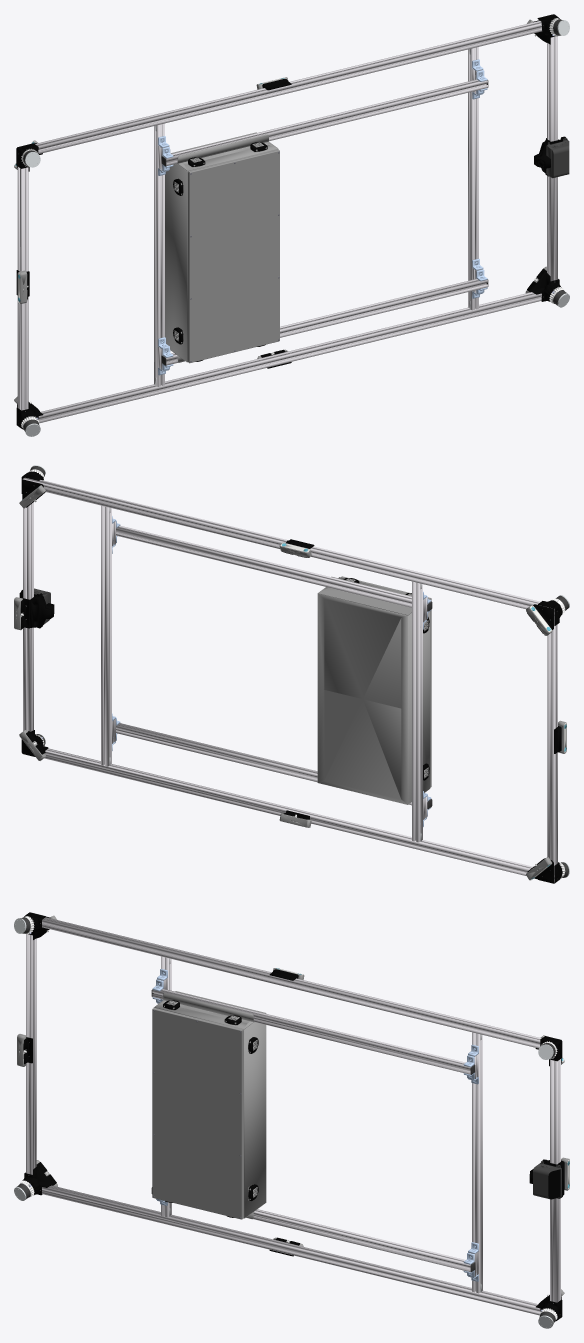
File: rack.obj
3 views of the same model, one above another, from view 1: azimuth 30°, elevation 25°; view 2: azimuth 150°, elevation 25°; view 3: azimuth 330°, elevation 25° (orthographic).
Parts seen in each view (by area): view 1: Deckel, Body1.045, Body1.040, Body2.032, Body1.065, Body1.053, Body1.018, Body1.056, Body1.055, Body1.027, Body60, Body57 (+1 smaller); view 2: Body2.032, Body1.045, Body1.040, Body1.065, Body1.056, Body1.055, Body1.018, Body1.053, Body1.027, Body60, Body2.033; view 3: Deckel, Body1.045, Body1.040, Body2.032, Body1.065, Body1.053, Body1.018, Body1.055, Body1.027, Top, Body60, Body57.
Boxes of the visible parts, x1,y1,x2,y2 form: Deckel: (187,149,279,363); Body1.045: (35,21,543,153); Body1.040: (38,292,541,423); Body2.032: (165,164,187,361); Body1.065: (165,79,487,166); Body1.053: (165,278,487,365); Body1.018: (17,166,28,411); Body1.056: (154,123,164,386); Body1.055: (468,47,478,310); Body1.027: (547,36,557,281); Body60: (170,132,278,170); Body57: (177,134,268,163); Body2.032: (317,593,430,804); Body1.045: (23,477,554,615); Body1.040: (44,748,554,882); Body1.065: (116,525,427,607); Body1.056: (412,581,422,842); Body1.055: (101,505,111,766); Body1.018: (547,616,557,874); Body1.053: (116,723,427,805); Body1.027: (23,492,33,731); Body60: (317,577,429,615); Body2.033: (19,590,51,628); Deckel: (152,1007,243,1219); Body1.045: (40,917,541,1048); Body1.040: (40,1185,540,1315); Body2.032: (153,1007,266,1218); Body1.065: (152,988,470,1074); Body1.053: (253,1209,470,1271); Body1.018: (26,934,36,1175); Body1.055: (472,1032,482,1293); Body1.027: (550,1058,560,1303); Top: (533,1167,561,1199); Body60: (154,991,265,1029); Body57: (163,993,253,1021).
Size of the model in its own units: 3 by 1.5 by 0.2786.
